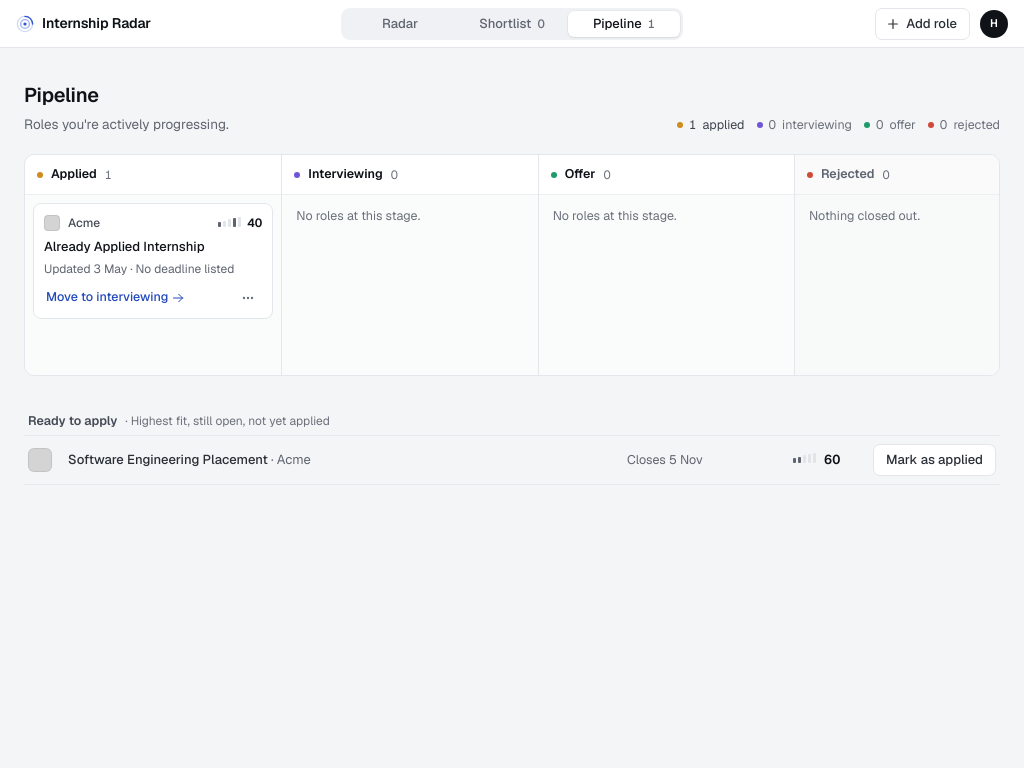
Scenario: Pipeline with the API › a failed move rolls back and says so; nothing is persisted
This screenshot has width=1024, height=768.
Click the button "Move to interviewing" at (115, 298), box [40,284,190,312]
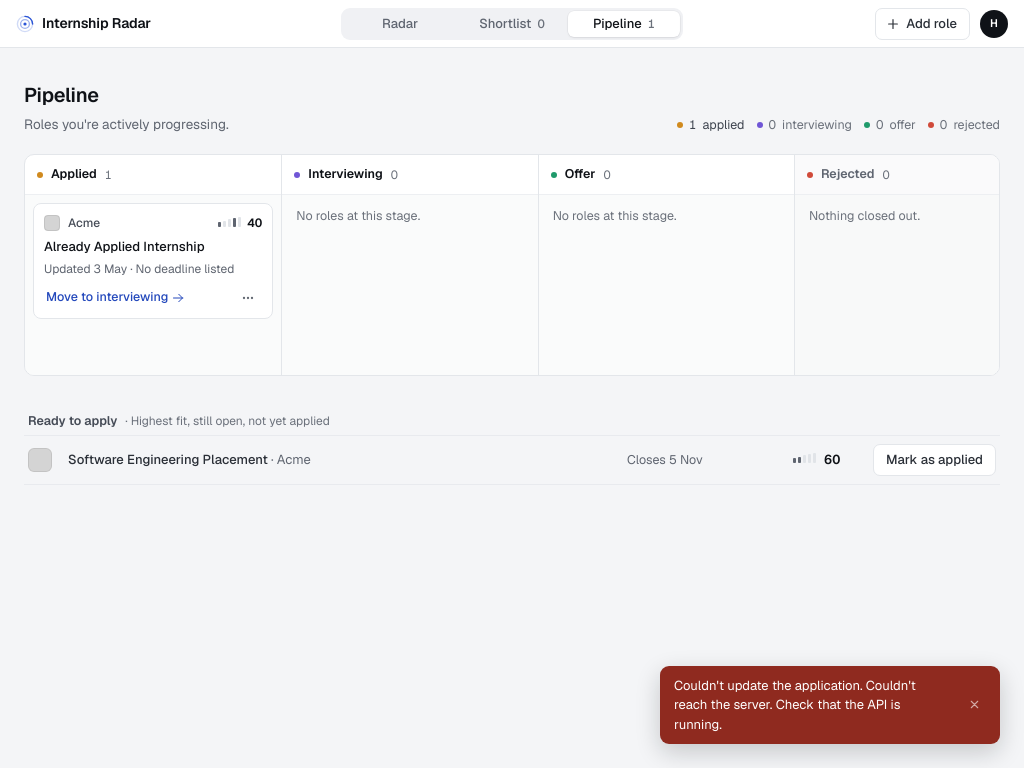
Now the message shows "Couldn't update the application", box [674,676,916,732]
